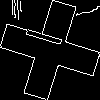I: (25, 25, 72, 52)
